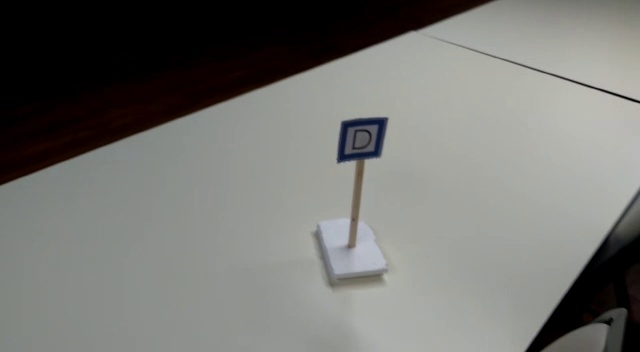durak: (338, 116, 384, 165)
